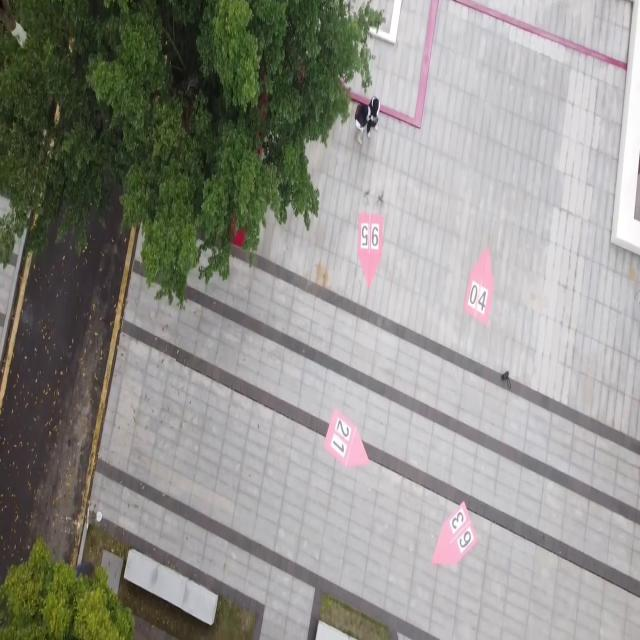-sign-: (432, 501, 478, 569), (323, 407, 369, 470), (464, 245, 495, 327), (358, 212, 384, 290)
